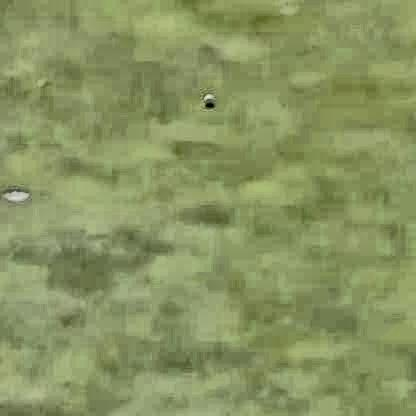golfball: (202, 90, 212, 103)
